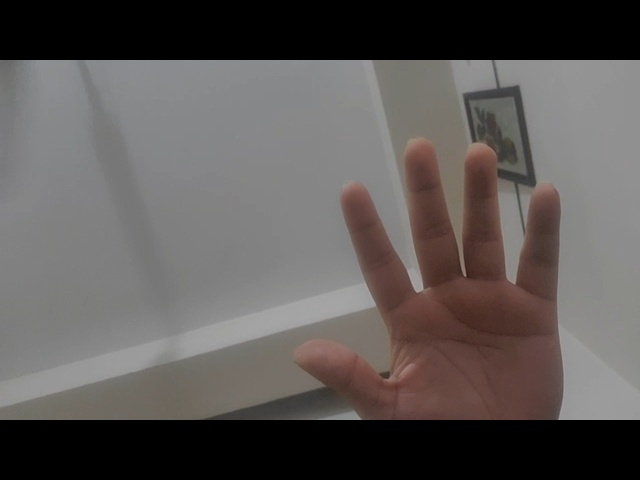Hello: (280, 128, 575, 420)
